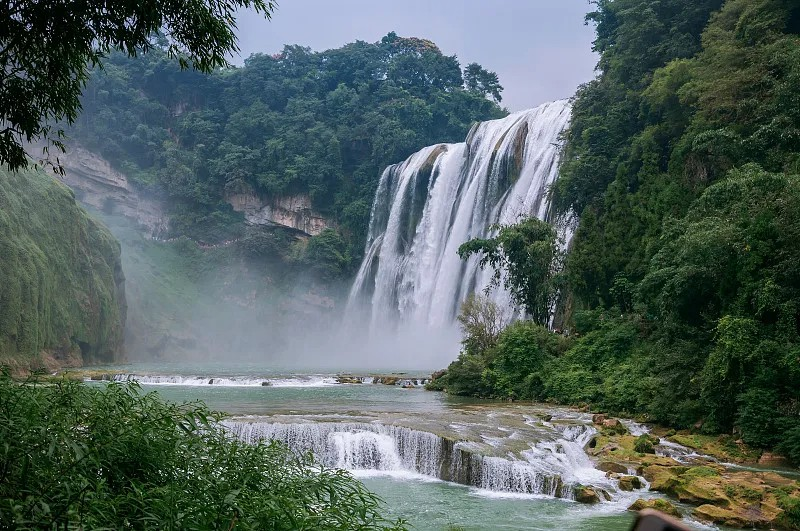Huangguoshu: (341, 99, 579, 370)
